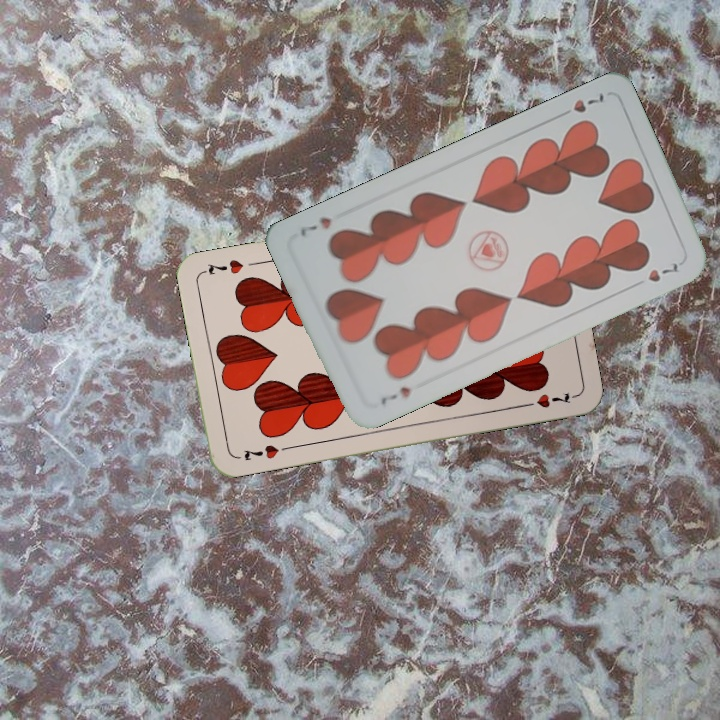H7: (553, 88, 607, 121), (240, 440, 292, 464), (376, 382, 413, 408)
